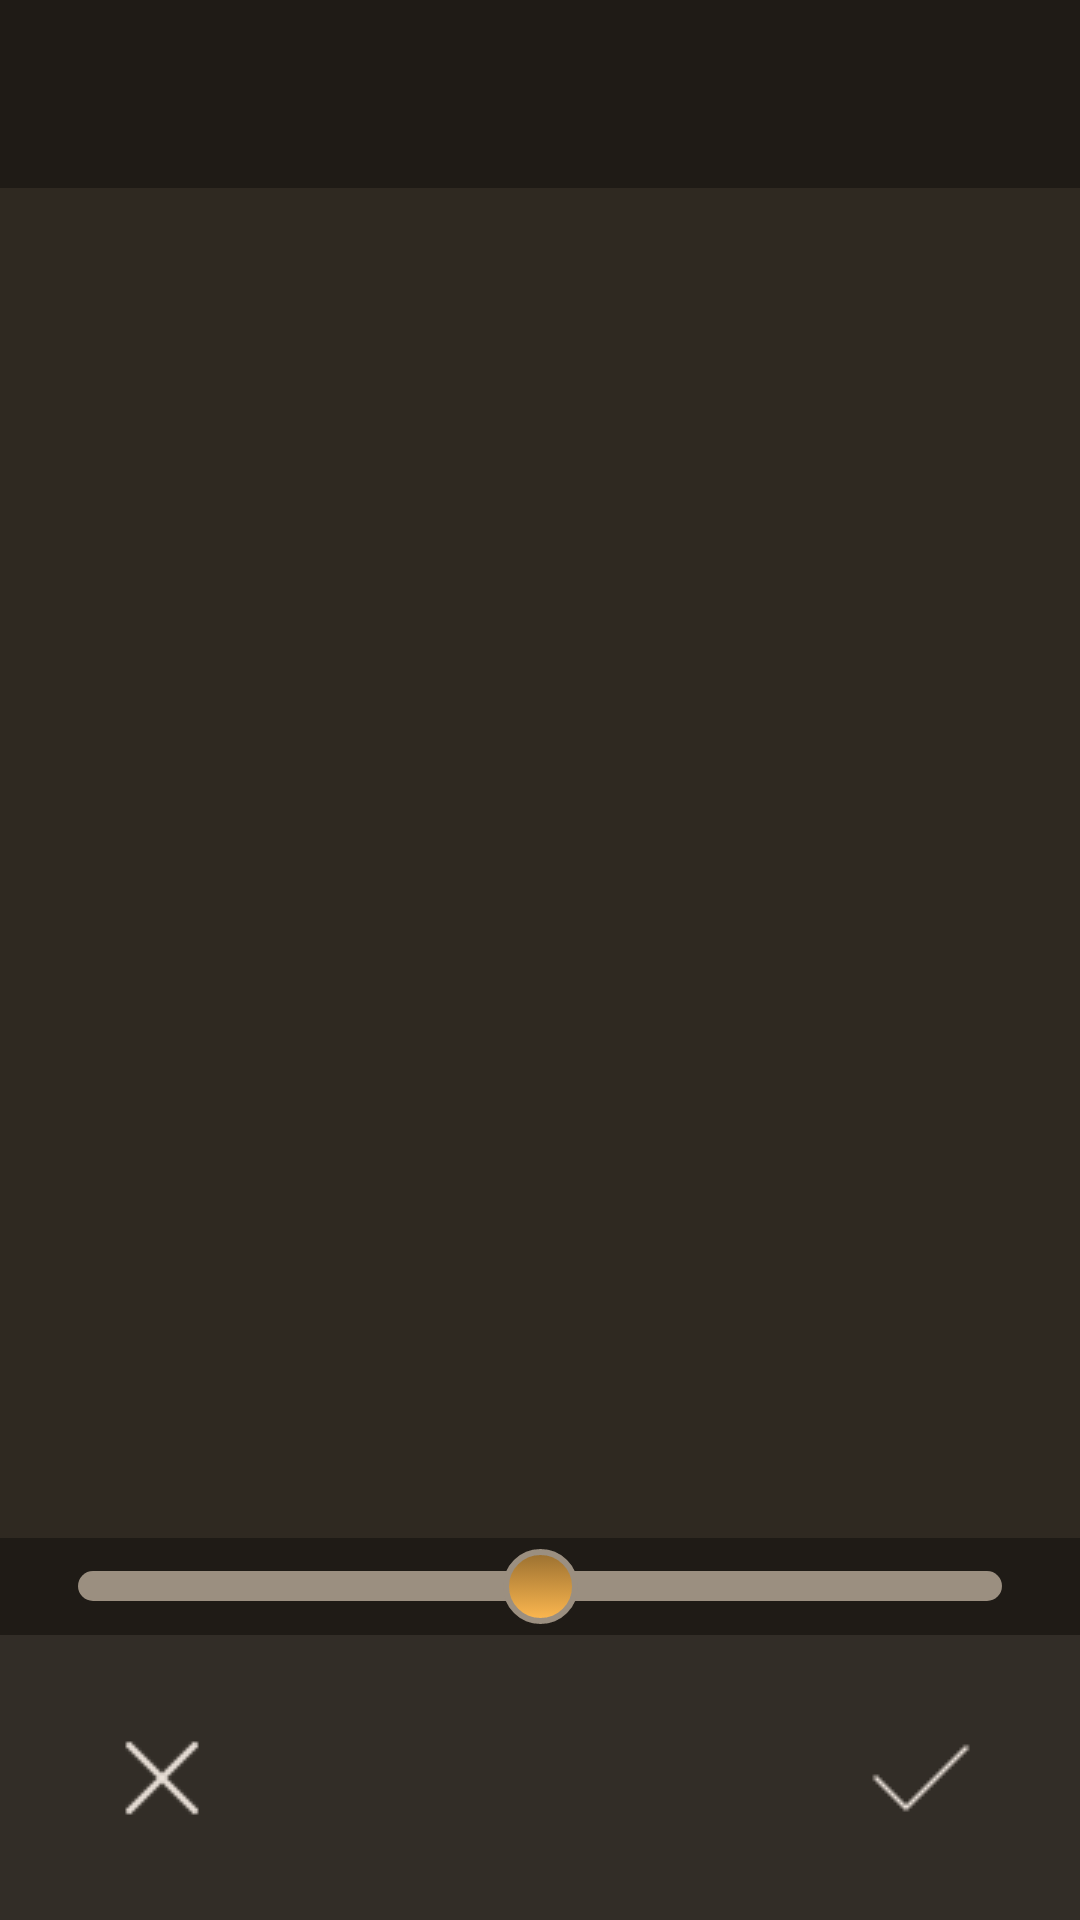

Where to tap for icons on this 1080×1920 app screen, as point (x, y):
apply: point (921, 1778)
cancel: point (162, 1778)
